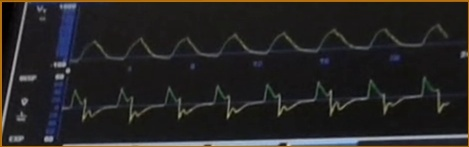Premature_cycling Flow: (65, 75, 450, 130)
Premature_cycling Volume: (76, 12, 451, 63)
